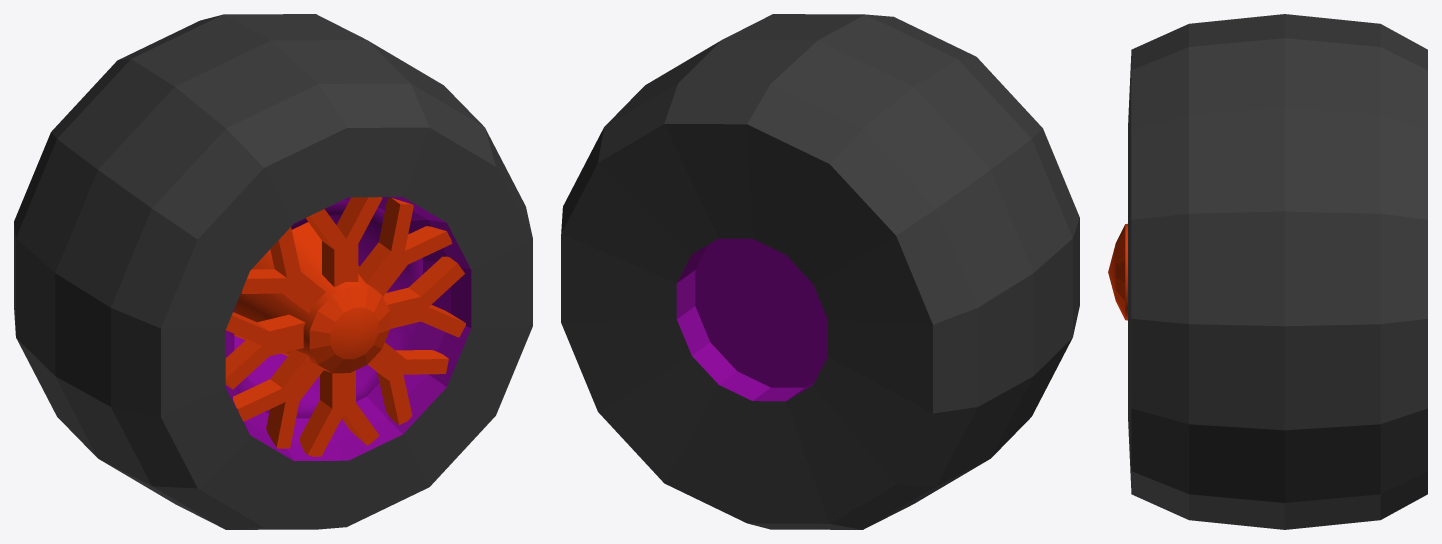
The model's file is wheel14.fbx.
The picture shows the model from 3 angles, left to right: view 1: azimuth 30°, elevation 25°; view 2: azimuth 150°, elevation 25°; view 3: azimuth 270°, elevation 25°; orthographic projection.
Parts seen in each view (by area): view 1: lanot_wheel12_L; view 2: lanot_wheel12_L; view 3: lanot_wheel12_L.
Part boxes in pixels (x1=…): lanot_wheel12_L: x1=14, y1=14, x2=532, y2=529; lanot_wheel12_L: x1=561, y1=14, x2=1079, y2=529; lanot_wheel12_L: x1=1108, y1=14, x2=1427, y2=529.
Bounding box in the file's own units: 152 × 156 × 96.65.
